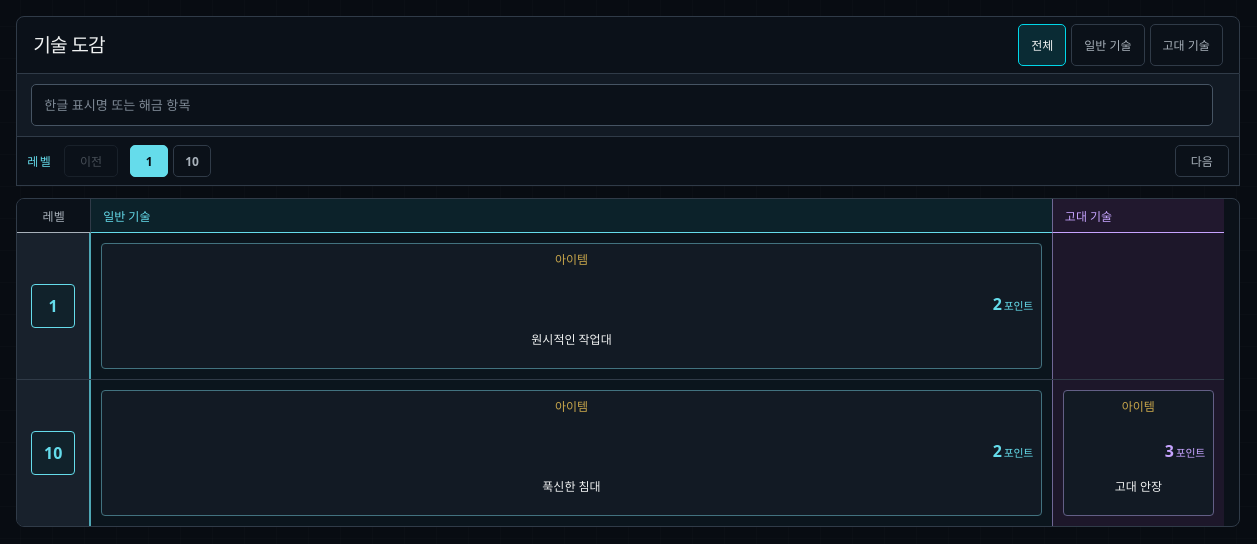
TechnologyBoard › steps through available levels without relying on horizontal scrolling
Check: the button with aria-label "이전 기술 레벨" is disabled, box [64,145,118,177]
Click the button with aria-label "다음 기술 레벨". click: coordinates (1202, 161)
box: [1175,145,1229,177]
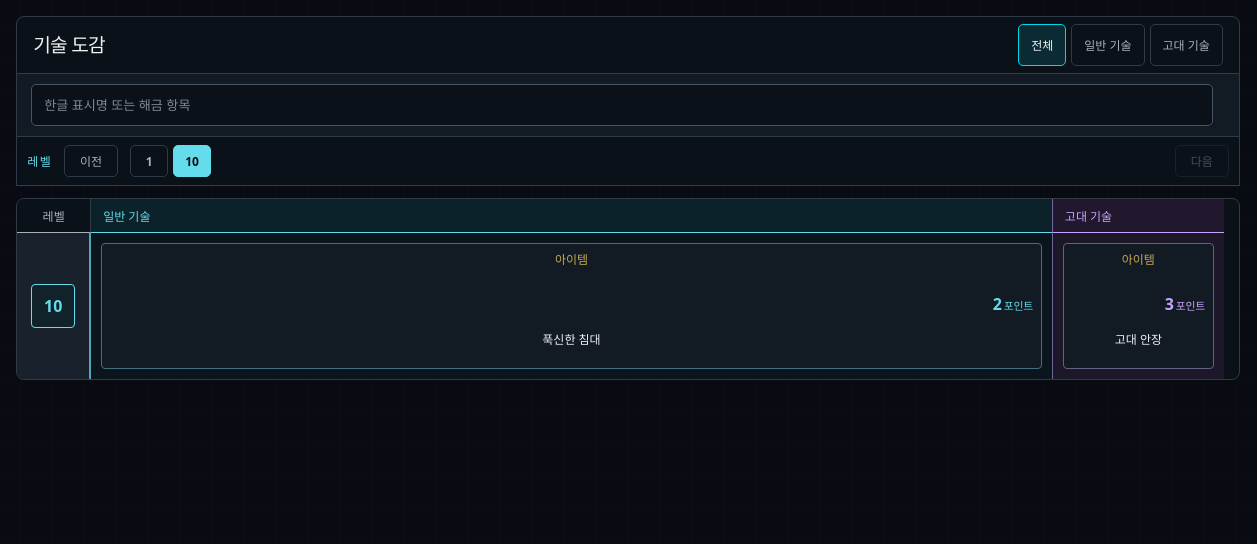
Check: the element with id "technology-level-10" is shown, box [17,233,1224,379]
Check: the button with aria-label "다음 기술 레벨" is disabled, box [1175,145,1229,177]
